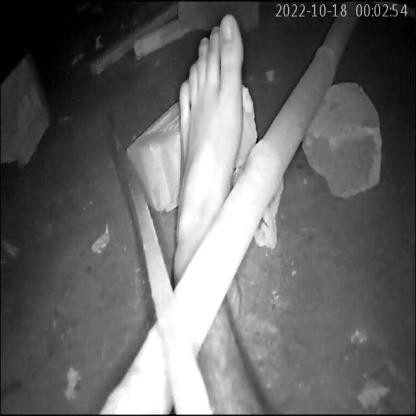leg: (134, 13, 318, 402)
